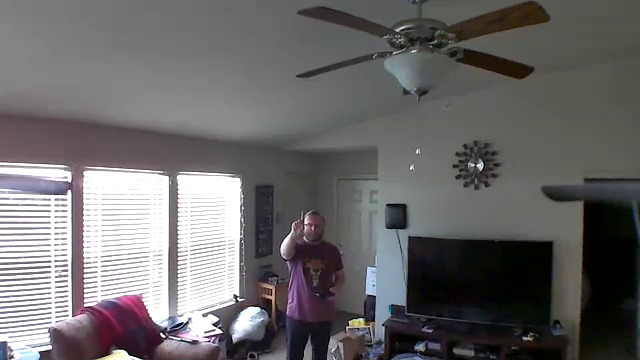up: (287, 207, 308, 236)
